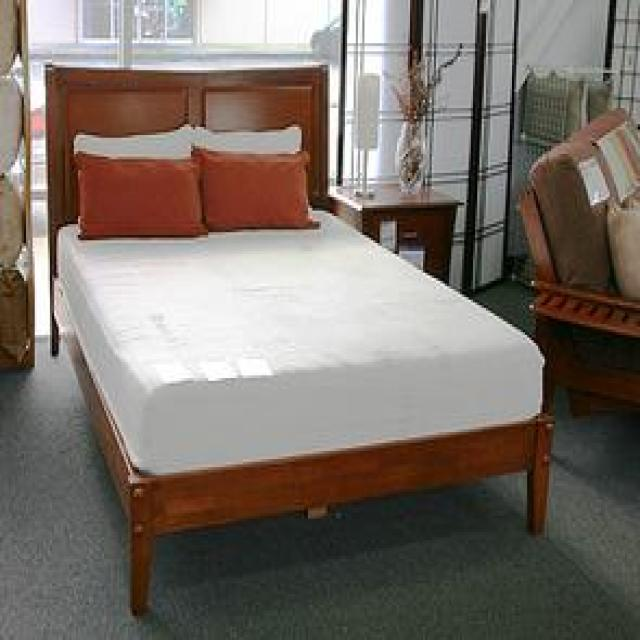bed: (44, 59, 554, 616)
